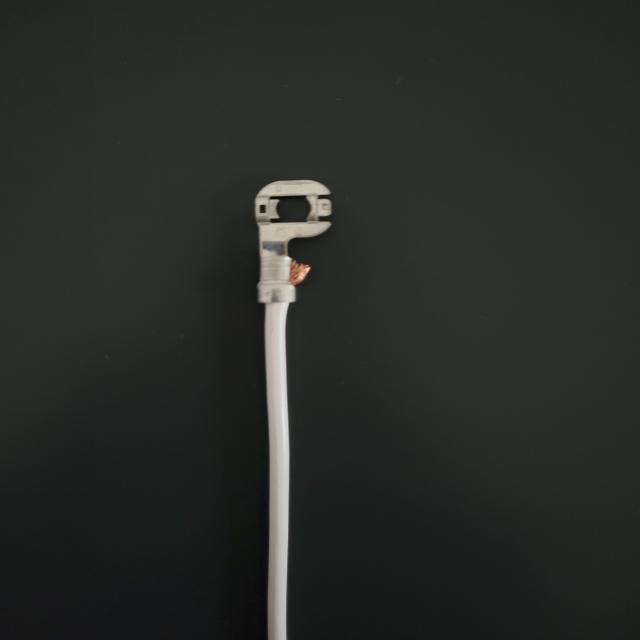defect: (207, 234, 376, 343)
